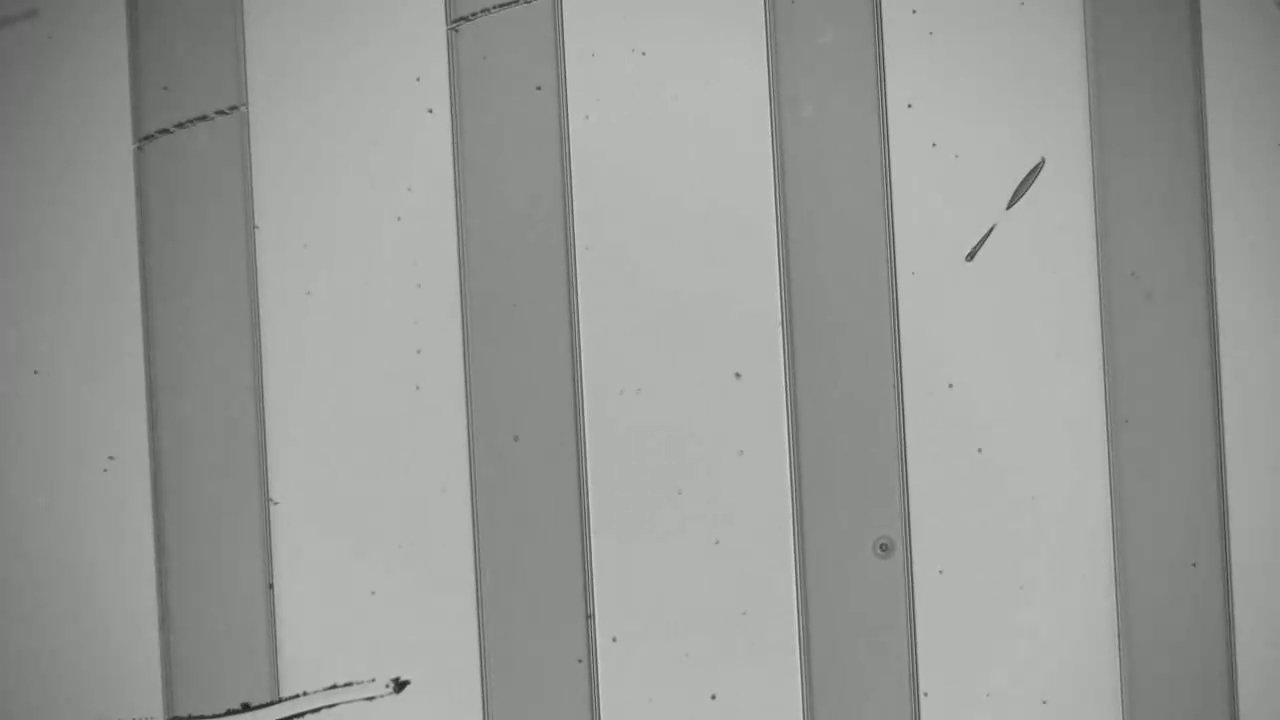Short_circuit: (121, 666, 334, 720)
scratch: (139, 97, 234, 141), (460, 1, 534, 20)
